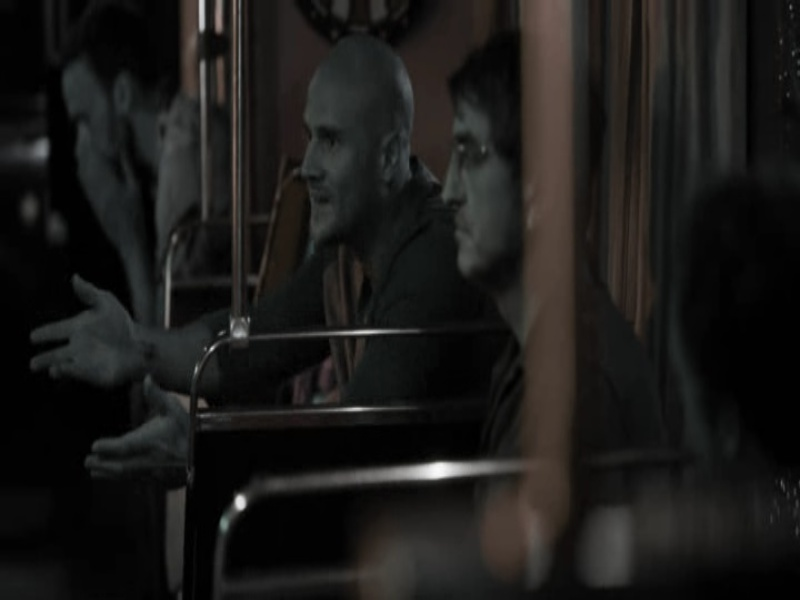TsisyArotava: (290, 49, 400, 263), (433, 74, 523, 287)
